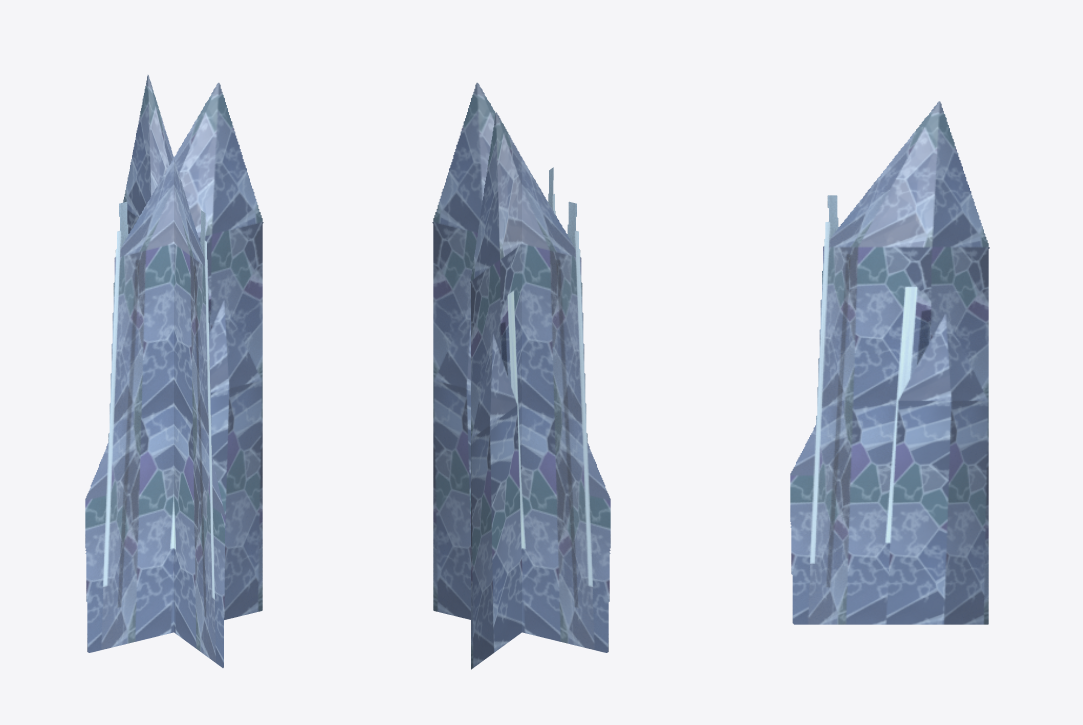
File: Oracle_Crystal_Slab_1_BB.gltf
3 views of the same model, side by side, from view 1: azimuth 30°, elevation 25°; view 2: azimuth 150°, elevation 25°; view 3: azimuth 270°, elevation 25° (orthographic). The views are drawn at different scales.
Visible parts, largest first — view 1: Oracle_Crystal_Slab_1_BB; view 2: Oracle_Crystal_Slab_1_BB; view 3: Oracle_Crystal_Slab_1_BB.
Boxes of the visible parts, x1,y1,x2,y2 form: Oracle_Crystal_Slab_1_BB: (85, 75, 263, 667); Oracle_Crystal_Slab_1_BB: (432, 82, 610, 669); Oracle_Crystal_Slab_1_BB: (790, 101, 989, 624).
Size of the model in its own units: 17.96 by 30.14 by 17.96.
Materials: 1 (1 with a texture image).
